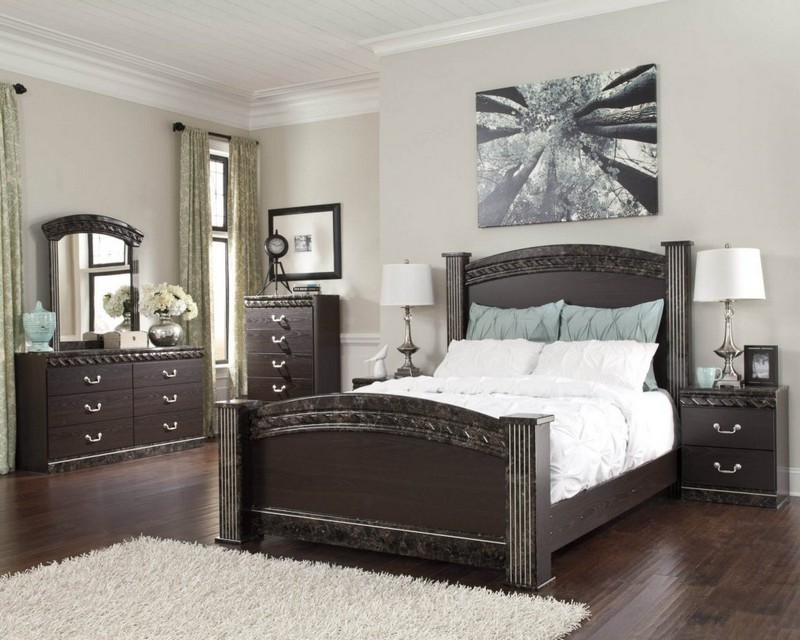bed: (221, 240, 694, 588)
lamp: (694, 245, 770, 392), (378, 248, 441, 380)
stool: (677, 388, 790, 506)
